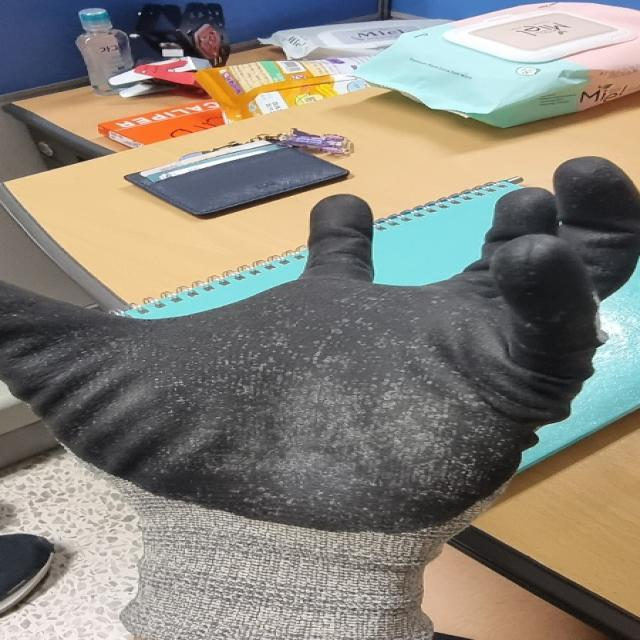Gloves: (0, 153, 640, 640)
